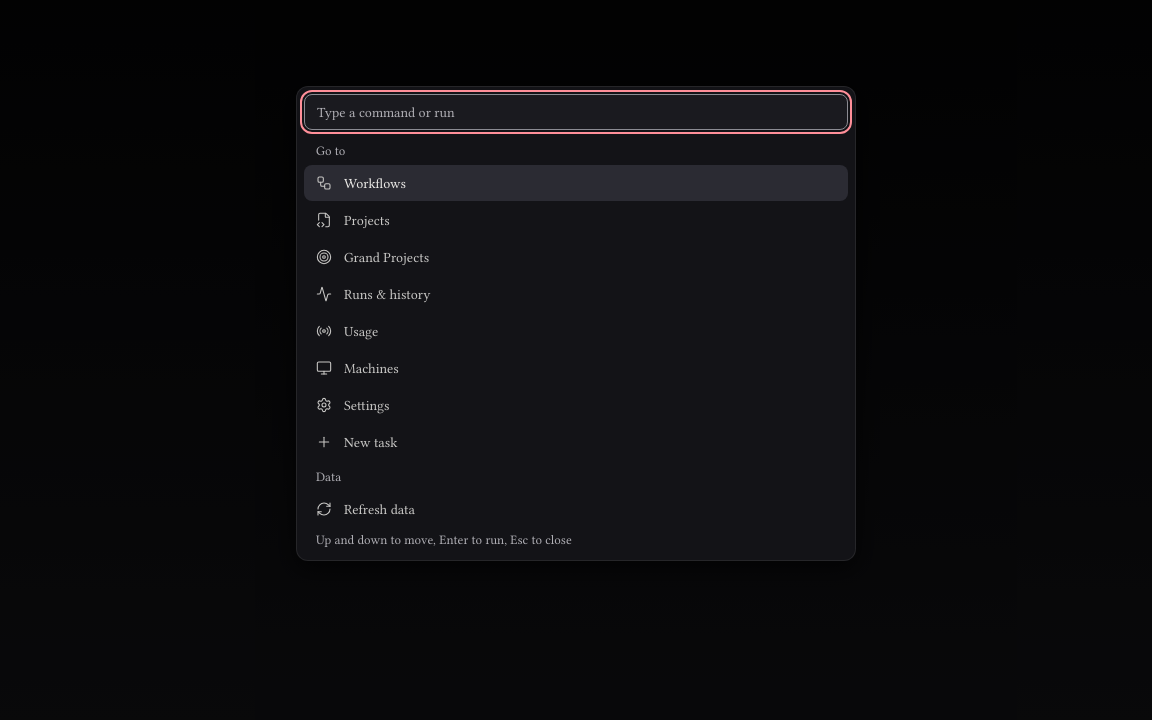
combobox ARIA follows the results (review 6) › with no matching command the combobox is collapsed and points at no listbox or option
The image size is (1152, 720).
Type "zzzzqqq" into the dropdown named "Search commands" at x=576, y=112, box [304,94,848,130]
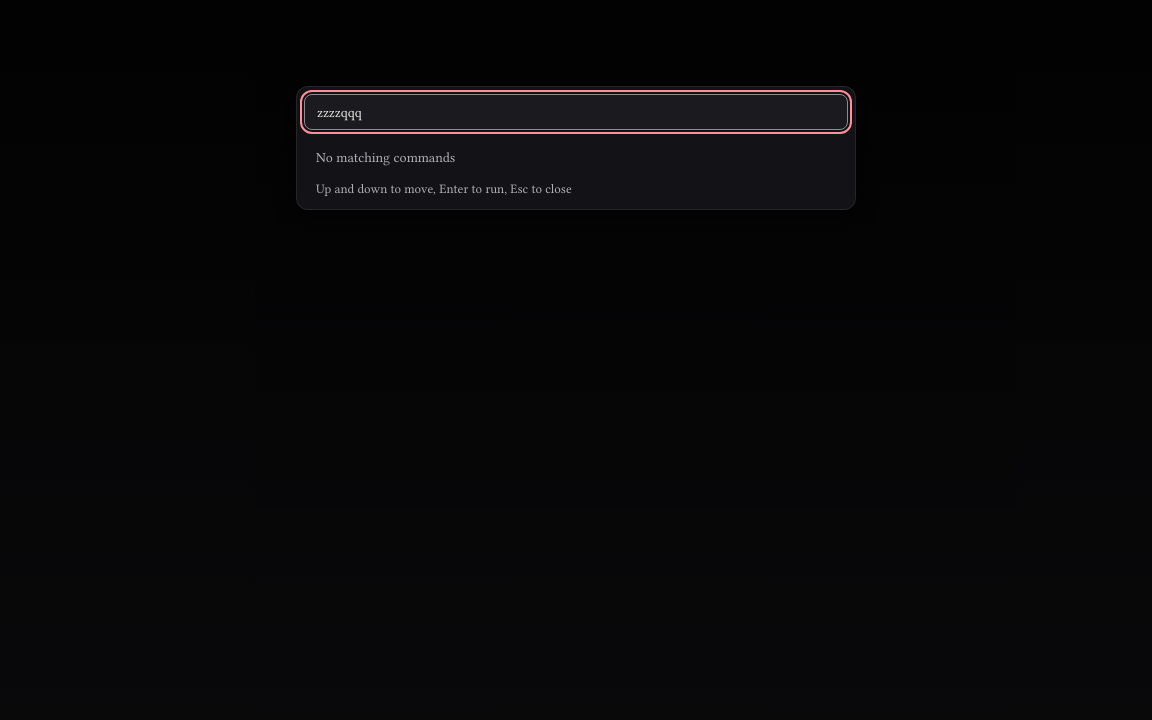
Result: the text "No matching commands" is shown at [316,149,455,165]
Result: the dropdown named "Search commands" is collapsed at [304,94,848,130]
